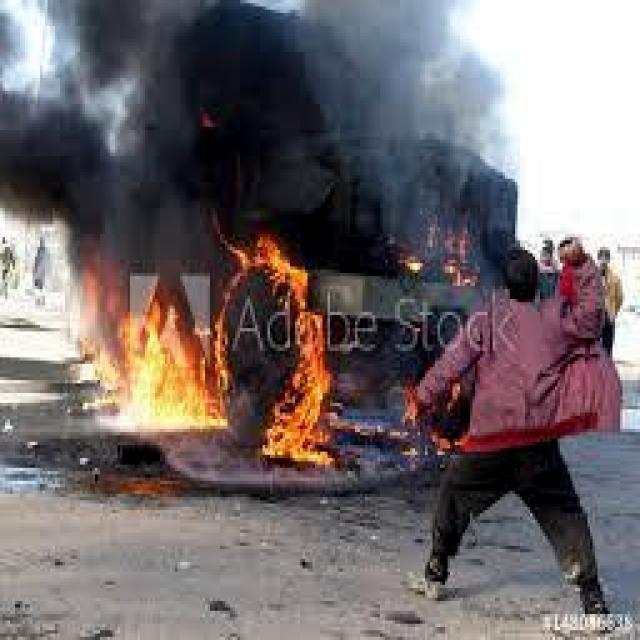Fire: (70, 289, 238, 436), (244, 236, 338, 471)
Smoke: (0, 0, 549, 327)
